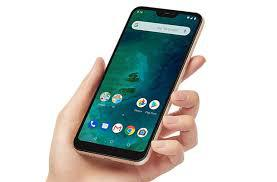Hand: (61, 57, 214, 182)
Smartphone: (78, 10, 205, 158)
